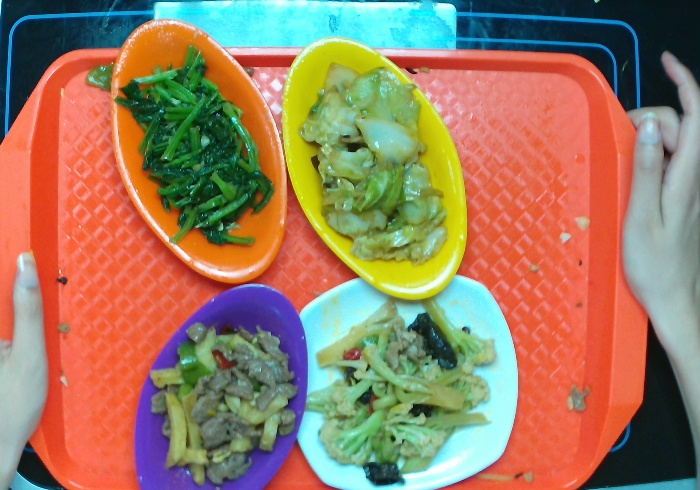RJxy-Fen_Hong_Tuo_Yuan: (132, 282, 311, 490)
RJxy-Huang_Se_Tuo_Yuan: (278, 35, 470, 301)
RJxy-Ju_Huang_Tuo_Yuan: (108, 16, 288, 285)
RJxy-Si_Fang_Die: (296, 272, 520, 490)
